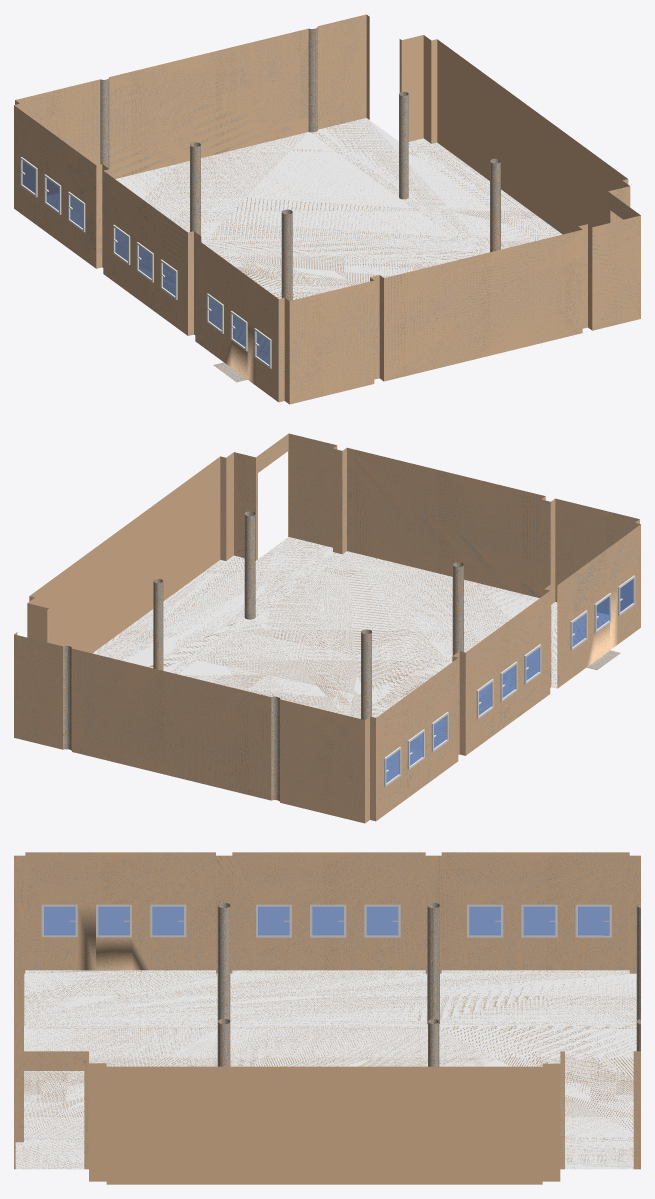
Rendered from AUL008.obj.
3 views of the same model, one above another, from view 1: azimuth 30°, elevation 25°; view 2: azimuth 150°, elevation 25°; view 3: azimuth 270°, elevation 25° (orthographic). The views are drawn at different scales.
Visible parts, largest first — view 1: Mesh28 AUL008 Model, Mesh13 ventana3_1_5 AUL008 Model, Mesh1 ventana3_1_1 AUL008 Model, Mesh4 ventana3_1_2 AUL008 Model, Mesh7 ventana3_1_3 AUL008 Model, Mesh10 ventana3_1_4 AUL008 Model, Mesh22 ventana3_1_8 AUL008 Model, Mesh25 ventana3_1_9 AUL008 Model, Mesh16 ventana3_1_6 AUL008 Model, Mesh19 ventana3_1_7 AUL008 Model; view 2: Mesh28 AUL008 Model, Mesh19 ventana3_1_7 AUL008 Model, Mesh1 ventana3_1_1 AUL008 Model, Mesh4 ventana3_1_2 AUL008 Model, Mesh7 ventana3_1_3 AUL008 Model, Mesh13 ventana3_1_5 AUL008 Model, Mesh16 ventana3_1_6 AUL008 Model, Mesh22 ventana3_1_8 AUL008 Model, Mesh25 ventana3_1_9 AUL008 Model, Mesh10 ventana3_1_4 AUL008 Model; view 3: Mesh28 AUL008 Model, Mesh7 ventana3_1_3 AUL008 Model, Mesh16 ventana3_1_6 AUL008 Model, Mesh1 ventana3_1_1 AUL008 Model, Mesh10 ventana3_1_4 AUL008 Model, Mesh25 ventana3_1_9 AUL008 Model, Mesh13 ventana3_1_5 AUL008 Model, Mesh19 ventana3_1_7 AUL008 Model, Mesh4 ventana3_1_2 AUL008 Model, Mesh22 ventana3_1_8 AUL008 Model.
Part boxes in pixels (bbox=[...]): Mesh28 AUL008 Model: bbox=[14, 14, 640, 404]; Mesh13 ventana3_1_5 AUL008 Model: bbox=[254, 328, 271, 368]; Mesh1 ventana3_1_1 AUL008 Model: bbox=[20, 157, 37, 197]; Mesh4 ventana3_1_2 AUL008 Model: bbox=[160, 259, 177, 299]; Mesh7 ventana3_1_3 AUL008 Model: bbox=[44, 174, 61, 214]; Mesh10 ventana3_1_4 AUL008 Model: bbox=[68, 191, 85, 232]; Mesh22 ventana3_1_8 AUL008 Model: bbox=[230, 311, 247, 351]; Mesh25 ventana3_1_9 AUL008 Model: bbox=[136, 242, 153, 282]; Mesh16 ventana3_1_6 AUL008 Model: bbox=[113, 224, 130, 264]; Mesh19 ventana3_1_7 AUL008 Model: bbox=[206, 293, 223, 333]; Mesh28 AUL008 Model: bbox=[14, 433, 640, 823]; Mesh19 ventana3_1_7 AUL008 Model: bbox=[570, 610, 587, 650]; Mesh1 ventana3_1_1 AUL008 Model: bbox=[384, 746, 401, 787]; Mesh4 ventana3_1_2 AUL008 Model: bbox=[524, 644, 541, 684]; Mesh7 ventana3_1_3 AUL008 Model: bbox=[407, 729, 424, 769]; Mesh13 ventana3_1_5 AUL008 Model: bbox=[618, 575, 635, 615]; Mesh16 ventana3_1_6 AUL008 Model: bbox=[476, 679, 493, 719]; Mesh22 ventana3_1_8 AUL008 Model: bbox=[594, 593, 611, 633]; Mesh25 ventana3_1_9 AUL008 Model: bbox=[500, 661, 517, 701]; Mesh10 ventana3_1_4 AUL008 Model: bbox=[431, 712, 448, 752]; Mesh28 AUL008 Model: bbox=[14, 852, 640, 1184]; Mesh7 ventana3_1_3 AUL008 Model: bbox=[521, 904, 557, 937]; Mesh16 ventana3_1_6 AUL008 Model: bbox=[364, 904, 400, 937]; Mesh1 ventana3_1_1 AUL008 Model: bbox=[575, 904, 611, 937]; Mesh10 ventana3_1_4 AUL008 Model: bbox=[467, 904, 503, 937]; Mesh25 ventana3_1_9 AUL008 Model: bbox=[310, 904, 346, 937]; Mesh13 ventana3_1_5 AUL008 Model: bbox=[41, 904, 77, 937]; Mesh19 ventana3_1_7 AUL008 Model: bbox=[150, 904, 186, 937]; Mesh4 ventana3_1_2 AUL008 Model: bbox=[256, 904, 291, 937]; Mesh22 ventana3_1_8 AUL008 Model: bbox=[96, 904, 131, 937].
Bounding box in the file's own units: 14.43 × 3.6 × 17.33.
Materials: 7 (2 with a texture image).
